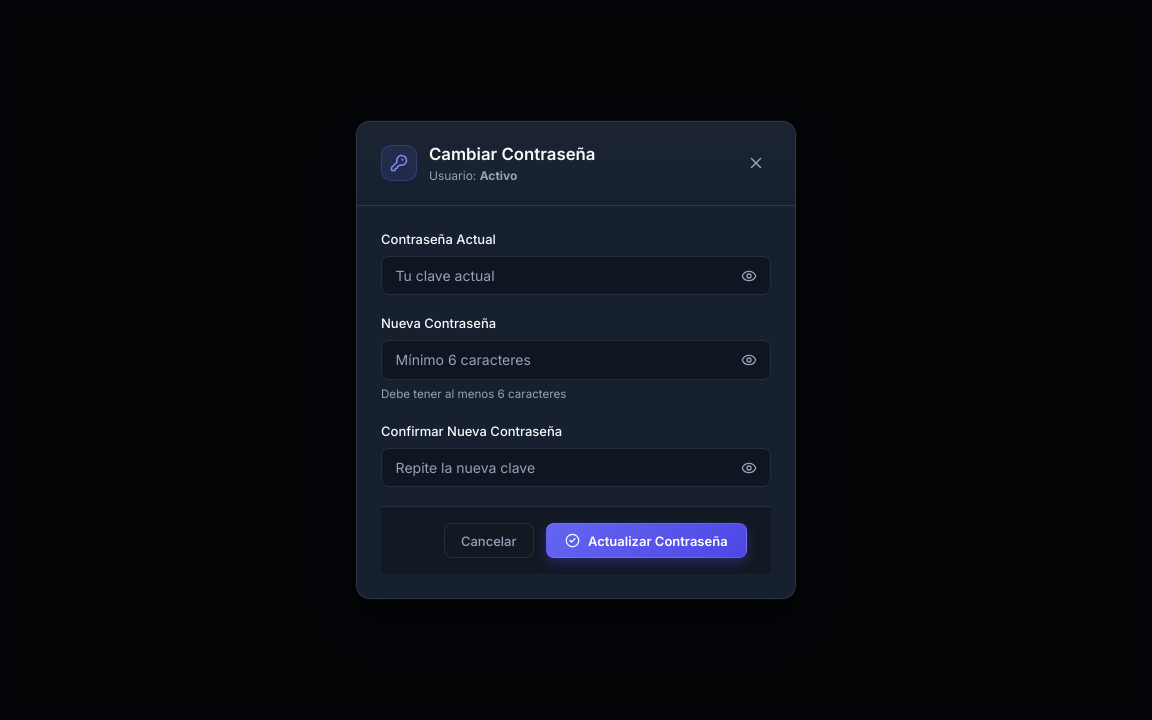
Test: ChangePasswordModal Component › validates that new password matches confirmation
The width and height of the screenshot is (1152, 720).
Type "oldPass123" into the password field labelled "Contraseña Actual" at {"x": 576, "y": 276}, box [381,256,771,296]
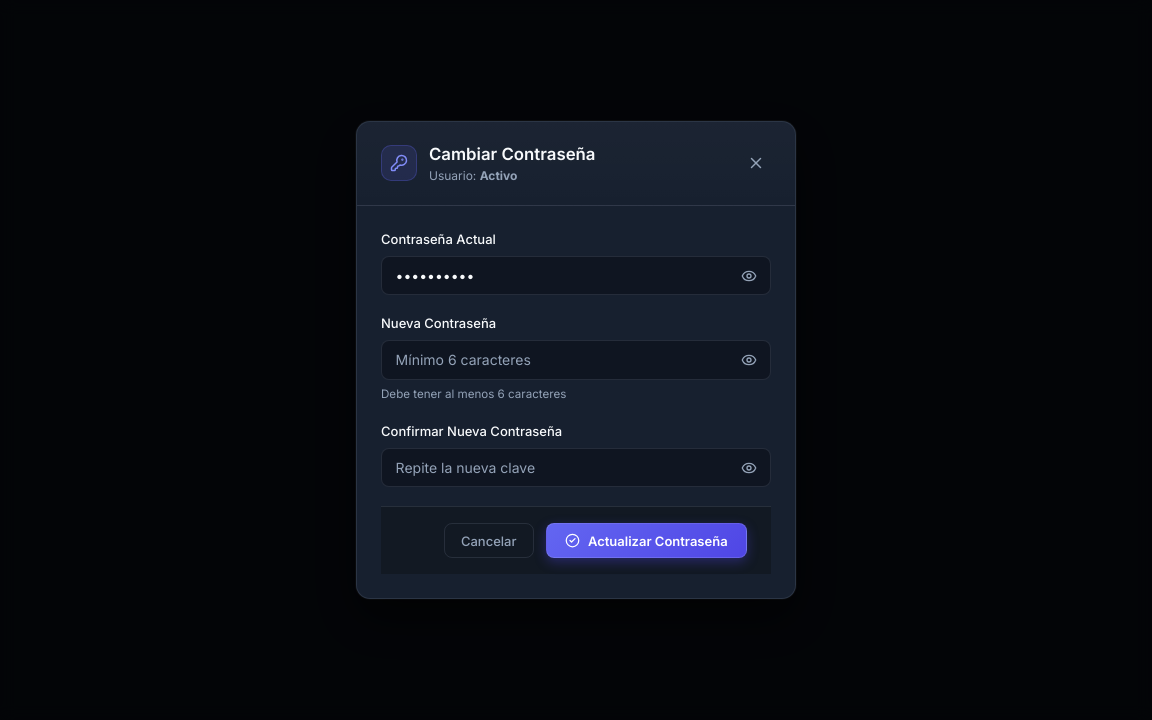
Type "newSecretPass1" into the password field labelled "Nueva Contraseña" at {"x": 576, "y": 360}, box [381,340,771,380]
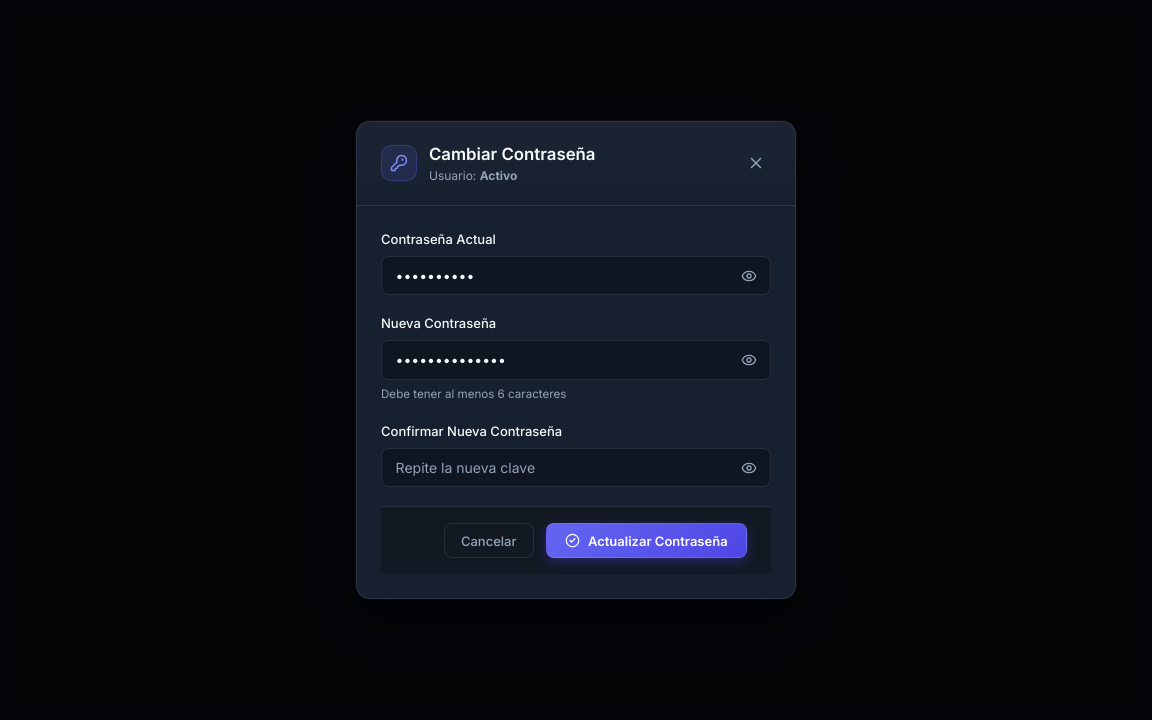
Type "differentSecretPass2" into the password field labelled "Confirmar Nueva Contraseña" at {"x": 576, "y": 468}, box [381,448,771,487]
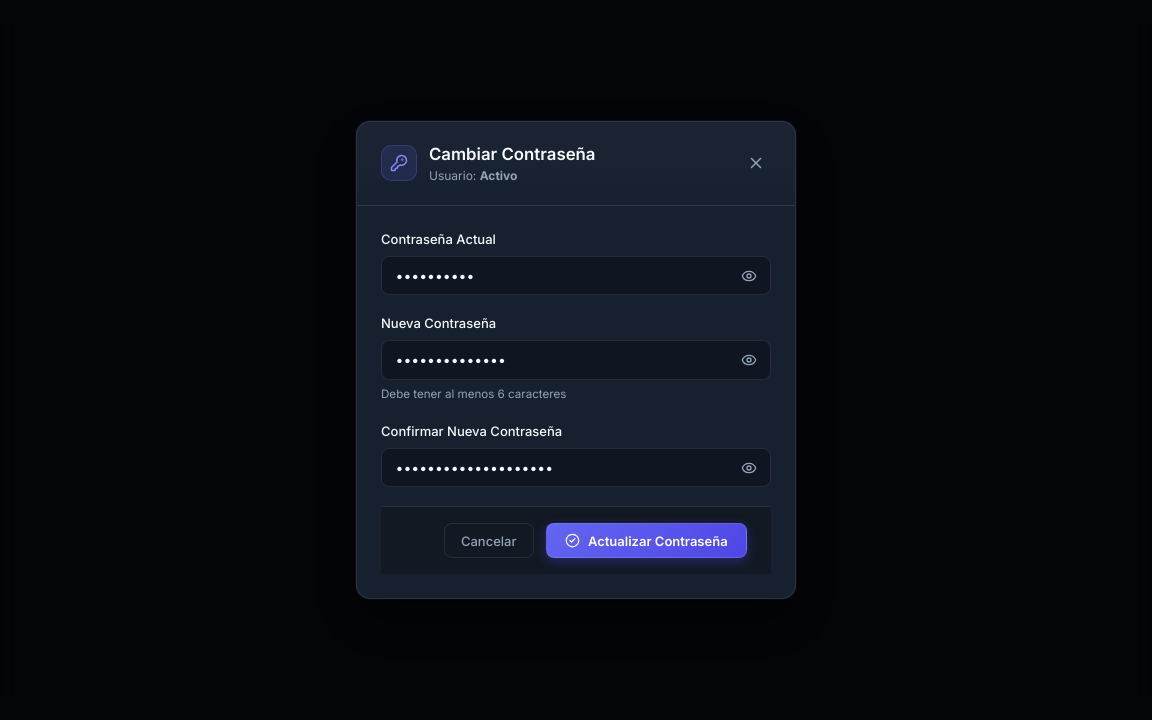
Click the button "Actualizar Contraseña" at {"x": 646, "y": 541}, box [546,523,747,558]
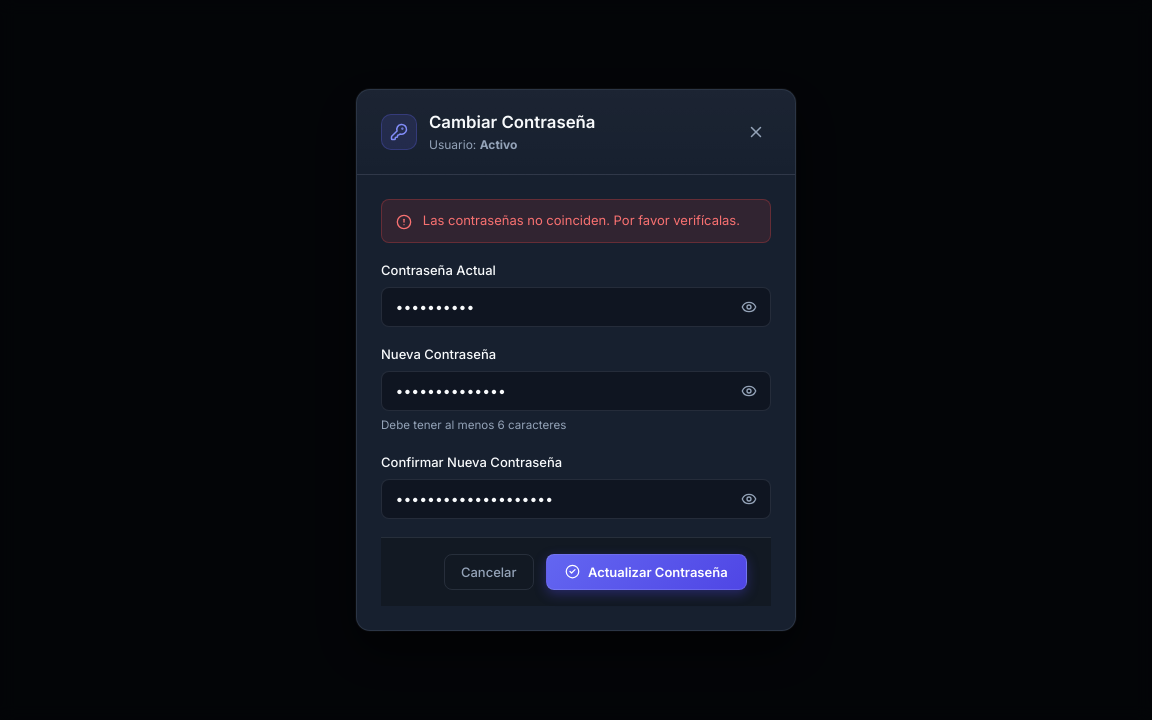
Now the text "Las contraseñas no coinciden. Por favor verifícalas." is shown, box [423,212,740,229]
